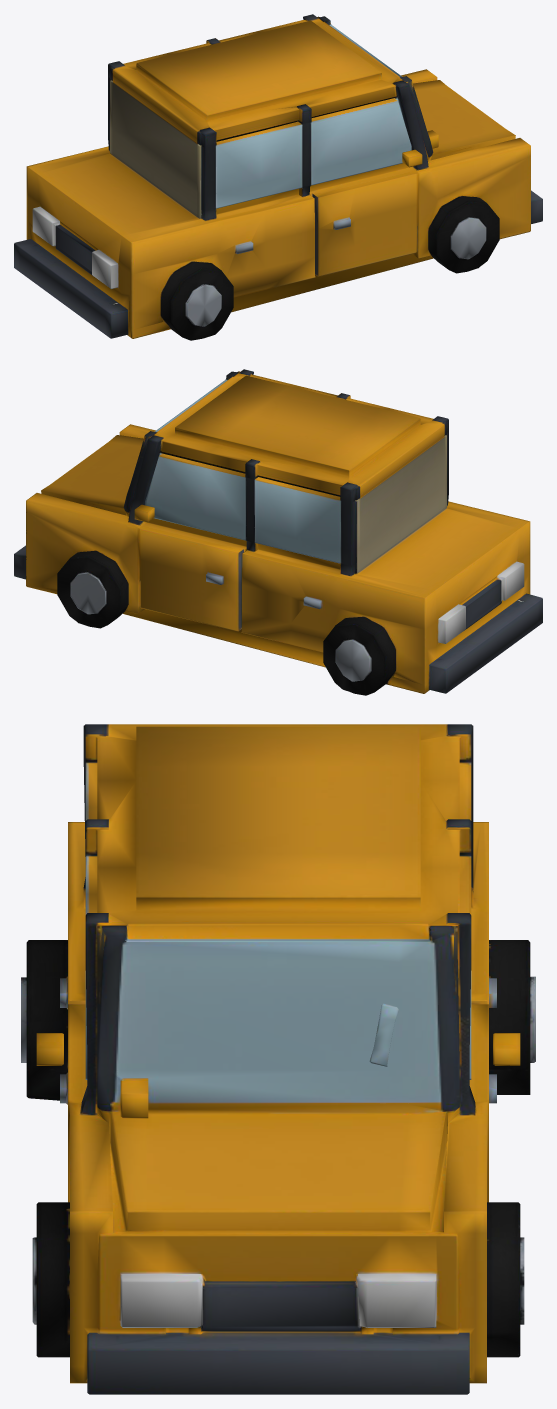
File: cute-car-sedan-tripo-original.glb
The picture shows the model from 3 angles, top to bottom: view 1: azimuth 30°, elevation 25°; view 2: azimuth 150°, elevation 25°; view 3: azimuth 270°, elevation 25°; orthographic projection. The views are drawn at different scales.
Parts seen in each view (by area): view 1: tripo_node_47b0f068-58d6-4536-be42-ae4e54933379; view 2: tripo_node_47b0f068-58d6-4536-be42-ae4e54933379; view 3: tripo_node_47b0f068-58d6-4536-be42-ae4e54933379.
Boxes of the visible parts, x1=… form: tripo_node_47b0f068-58d6-4536-be42-ae4e54933379: x1=14, y1=14, x2=542, y2=340; tripo_node_47b0f068-58d6-4536-be42-ae4e54933379: x1=14, y1=369, x2=542, y2=695; tripo_node_47b0f068-58d6-4536-be42-ae4e54933379: x1=21, y1=724, x2=535, y2=1394.
Bounding box in the file's own units: 1 × 0.4325 × 0.5147.
1 material, 1 textured.
